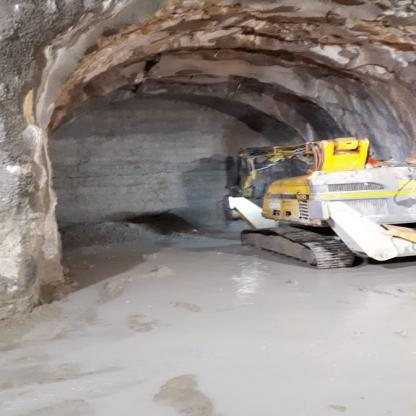excavator: (194, 125, 415, 281)
